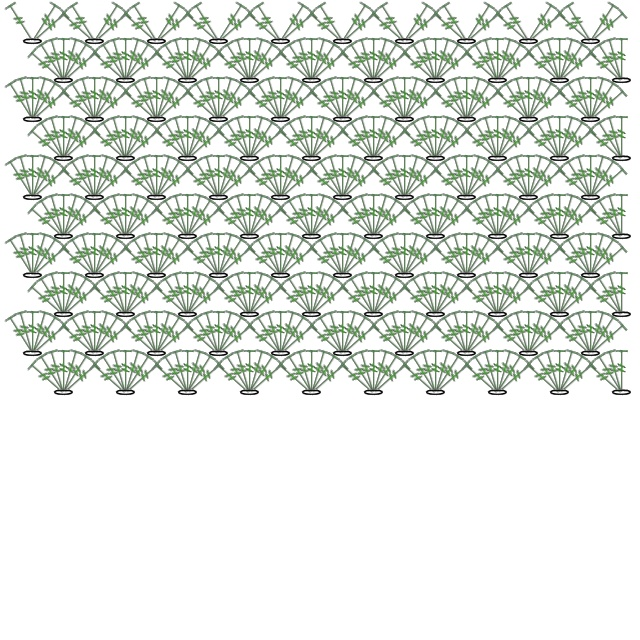chain: (52, 76, 76, 86), (114, 76, 138, 86), (176, 76, 200, 86), (238, 76, 262, 86), (300, 76, 324, 86), (362, 76, 386, 86), (424, 76, 448, 86), (486, 76, 510, 86), (548, 76, 572, 86), (610, 76, 634, 86), (52, 154, 76, 164), (114, 154, 138, 164), (176, 154, 200, 164), (238, 154, 262, 164), (300, 154, 324, 164), (362, 154, 386, 164), (424, 154, 448, 164), (486, 154, 510, 164), (548, 154, 572, 164), (610, 154, 634, 164), (52, 232, 76, 242), (114, 232, 138, 242), (176, 232, 200, 242), (238, 232, 262, 242), (300, 232, 324, 242), (362, 232, 386, 242), (424, 232, 448, 242), (486, 232, 510, 242), (548, 232, 572, 242), (610, 232, 634, 242), (52, 310, 76, 320), (114, 310, 138, 320), (176, 310, 200, 320), (238, 310, 262, 320), (300, 310, 324, 320), (362, 310, 386, 320), (424, 310, 448, 320), (486, 310, 510, 320), (548, 310, 572, 320), (610, 310, 634, 320), (52, 388, 76, 398), (114, 388, 138, 398), (176, 388, 200, 398), (238, 388, 262, 398), (300, 388, 324, 398), (362, 388, 386, 398), (424, 388, 448, 398), (486, 388, 510, 398), (548, 388, 572, 398), (610, 388, 634, 398), (22, 38, 44, 46), (84, 38, 106, 46), (146, 38, 168, 46), (208, 38, 230, 46), (270, 38, 292, 46), (332, 38, 354, 46), (394, 38, 416, 46), (456, 38, 478, 46), (518, 38, 540, 46), (580, 38, 602, 46), (22, 116, 44, 124), (84, 116, 106, 124), (146, 116, 168, 124), (208, 116, 230, 124), (270, 116, 292, 124), (332, 116, 354, 124), (394, 116, 416, 124), (456, 116, 478, 124), (518, 116, 540, 124), (580, 116, 602, 124), (22, 194, 44, 202), (84, 194, 106, 202), (146, 194, 168, 202), (208, 194, 230, 202), (270, 194, 292, 202), (332, 194, 354, 202), (394, 194, 416, 202), (456, 194, 478, 202), (518, 194, 540, 202), (580, 194, 602, 202), (22, 272, 44, 280), (84, 272, 106, 280), (146, 272, 168, 280), (208, 272, 230, 280), (270, 272, 292, 280), (332, 272, 354, 280), (394, 272, 416, 280), (456, 272, 478, 280), (518, 272, 540, 280), (580, 272, 602, 280), (22, 350, 44, 358), (84, 350, 106, 358), (146, 350, 168, 358), (208, 350, 230, 358), (270, 350, 292, 358), (332, 350, 354, 358), (394, 350, 416, 358), (456, 350, 478, 358), (518, 350, 540, 358), (580, 350, 602, 358)
fan: (28, 7, 71, 48), (57, 7, 100, 48), (90, 7, 133, 48), (119, 7, 162, 48), (152, 7, 195, 48), (181, 7, 224, 48), (214, 7, 257, 48), (243, 7, 286, 48), (276, 7, 319, 48), (305, 7, 348, 48), (338, 7, 381, 48), (367, 7, 410, 48), (400, 7, 443, 48), (429, 7, 472, 48), (462, 7, 505, 48), (491, 7, 534, 48), (524, 7, 567, 48), (553, 7, 596, 48), (586, 7, 629, 48), (26, 46, 69, 87), (59, 46, 102, 87), (88, 46, 131, 87), (121, 46, 164, 87), (150, 46, 193, 87), (183, 46, 226, 87), (212, 46, 255, 87), (245, 46, 288, 87), (274, 46, 317, 87), (307, 46, 350, 87), (336, 46, 379, 87), (369, 46, 412, 87), (398, 46, 441, 87), (431, 46, 474, 87), (460, 46, 503, 87), (493, 46, 536, 87), (522, 46, 565, 87), (555, 46, 598, 87), (584, 46, 627, 87), (28, 85, 71, 126), (57, 85, 100, 126), (90, 85, 133, 126), (119, 85, 162, 126), (152, 85, 195, 126), (181, 85, 224, 126), (214, 85, 257, 126), (243, 85, 286, 126), (276, 85, 319, 126), (305, 85, 348, 126), (338, 85, 381, 126), (367, 85, 410, 126), (400, 85, 443, 126), (429, 85, 472, 126), (462, 85, 505, 126), (491, 85, 534, 126), (524, 85, 567, 126), (553, 85, 596, 126), (586, 85, 629, 126), (26, 124, 69, 165), (59, 124, 102, 165), (88, 124, 131, 165), (121, 124, 164, 165), (150, 124, 193, 165), (183, 124, 226, 165), (212, 124, 255, 165), (245, 124, 288, 165), (274, 124, 317, 165), (307, 124, 350, 165), (336, 124, 379, 165), (369, 124, 412, 165), (398, 124, 441, 165), (431, 124, 474, 165), (460, 124, 503, 165), (493, 124, 536, 165), (522, 124, 565, 165), (555, 124, 598, 165), (584, 124, 627, 165), (28, 163, 71, 204), (57, 163, 100, 204), (90, 163, 133, 204), (119, 163, 162, 204), (152, 163, 195, 204), (181, 163, 224, 204), (214, 163, 257, 204), (243, 163, 286, 204), (276, 163, 319, 204), (305, 163, 348, 204), (338, 163, 381, 204), (367, 163, 410, 204), (400, 163, 443, 204), (429, 163, 472, 204), (462, 163, 505, 204), (491, 163, 534, 204), (524, 163, 567, 204), (553, 163, 596, 204), (586, 163, 629, 204), (26, 202, 69, 243), (59, 202, 102, 243), (88, 202, 131, 243), (121, 202, 164, 243), (150, 202, 193, 243), (183, 202, 226, 243), (212, 202, 255, 243), (245, 202, 288, 243), (274, 202, 317, 243), (307, 202, 350, 243), (336, 202, 379, 243), (369, 202, 412, 243), (398, 202, 441, 243), (431, 202, 474, 243), (460, 202, 503, 243), (493, 202, 536, 243), (522, 202, 565, 243), (555, 202, 598, 243), (584, 202, 627, 243), (28, 241, 71, 282), (57, 241, 100, 282), (90, 241, 133, 282), (119, 241, 162, 282), (152, 241, 195, 282), (181, 241, 224, 282), (214, 241, 257, 282), (243, 241, 286, 282), (276, 241, 319, 282), (305, 241, 348, 282), (338, 241, 381, 282), (367, 241, 410, 282), (400, 241, 443, 282), (429, 241, 472, 282), (462, 241, 505, 282), (491, 241, 534, 282), (524, 241, 567, 282), (553, 241, 596, 282), (586, 241, 629, 282), (26, 280, 69, 321), (59, 280, 102, 321), (88, 280, 131, 321), (121, 280, 164, 321), (150, 280, 193, 321), (183, 280, 226, 321), (212, 280, 255, 321), (245, 280, 288, 321), (274, 280, 317, 321), (307, 280, 350, 321), (336, 280, 379, 321), (369, 280, 412, 321), (398, 280, 441, 321), (431, 280, 474, 321), (460, 280, 503, 321), (493, 280, 536, 321), (522, 280, 565, 321), (555, 280, 598, 321), (584, 280, 627, 321), (28, 319, 71, 360), (57, 319, 100, 360), (90, 319, 133, 360), (119, 319, 162, 360), (152, 319, 195, 360), (181, 319, 224, 360), (214, 319, 257, 360), (243, 319, 286, 360), (276, 319, 319, 360), (305, 319, 348, 360), (338, 319, 381, 360), (367, 319, 410, 360), (400, 319, 443, 360), (429, 319, 472, 360), (462, 319, 505, 360), (491, 319, 534, 360), (524, 319, 567, 360), (553, 319, 596, 360), (586, 319, 629, 360), (26, 358, 69, 399), (59, 358, 102, 399), (88, 358, 131, 399), (121, 358, 164, 399), (150, 358, 193, 399), (183, 358, 226, 399), (212, 358, 255, 399), (245, 358, 288, 399), (274, 358, 317, 399), (307, 358, 350, 399), (336, 358, 379, 399), (369, 358, 412, 399), (398, 358, 441, 399), (431, 358, 474, 399), (460, 358, 503, 399), (493, 358, 536, 399), (522, 358, 565, 399), (555, 358, 598, 399), (584, 358, 627, 399), (3, 1, 39, 46), (27, 1, 63, 46), (65, 1, 101, 46), (89, 1, 125, 46), (127, 1, 163, 46), (151, 1, 187, 46), (189, 1, 225, 46), (213, 1, 249, 46), (251, 1, 287, 46), (275, 1, 311, 46), (313, 1, 349, 46), (337, 1, 373, 46), (375, 1, 411, 46), (399, 1, 435, 46), (437, 1, 473, 46), (461, 1, 497, 46), (499, 1, 535, 46), (523, 1, 559, 46), (561, 1, 597, 46), (585, 1, 621, 46), (34, 40, 70, 85), (58, 40, 94, 85), (96, 40, 132, 85), (120, 40, 156, 85), (158, 40, 194, 85), (182, 40, 218, 85), (220, 40, 256, 85), (244, 40, 280, 85), (282, 40, 318, 85), (306, 40, 342, 85), (344, 40, 380, 85), (368, 40, 404, 85), (406, 40, 442, 85), (430, 40, 466, 85), (468, 40, 504, 85), (492, 40, 528, 85), (530, 40, 566, 85), (554, 40, 590, 85), (592, 40, 628, 85), (3, 79, 39, 124), (27, 79, 63, 124), (65, 79, 101, 124), (89, 79, 125, 124), (127, 79, 163, 124), (151, 79, 187, 124), (189, 79, 225, 124), (213, 79, 249, 124), (251, 79, 287, 124), (275, 79, 311, 124), (313, 79, 349, 124), (337, 79, 373, 124), (375, 79, 411, 124), (399, 79, 435, 124), (437, 79, 473, 124), (461, 79, 497, 124), (499, 79, 535, 124), (523, 79, 559, 124), (561, 79, 597, 124), (585, 79, 621, 124), (34, 118, 70, 163), (58, 118, 94, 163), (96, 118, 132, 163), (120, 118, 156, 163), (158, 118, 194, 163), (182, 118, 218, 163), (220, 118, 256, 163), (244, 118, 280, 163), (282, 118, 318, 163), (306, 118, 342, 163), (344, 118, 380, 163), (368, 118, 404, 163), (406, 118, 442, 163), (430, 118, 466, 163), (468, 118, 504, 163), (492, 118, 528, 163), (530, 118, 566, 163), (554, 118, 590, 163), (592, 118, 628, 163), (3, 157, 39, 202), (27, 157, 63, 202), (65, 157, 101, 202), (89, 157, 125, 202), (127, 157, 163, 202), (151, 157, 187, 202), (189, 157, 225, 202), (213, 157, 249, 202), (251, 157, 287, 202), (275, 157, 311, 202), (313, 157, 349, 202), (337, 157, 373, 202), (375, 157, 411, 202), (399, 157, 435, 202), (437, 157, 473, 202), (461, 157, 497, 202), (499, 157, 535, 202), (523, 157, 559, 202), (561, 157, 597, 202), (585, 157, 621, 202), (34, 196, 70, 241), (58, 196, 94, 241), (96, 196, 132, 241), (120, 196, 156, 241), (158, 196, 194, 241), (182, 196, 218, 241), (220, 196, 256, 241), (244, 196, 280, 241), (282, 196, 318, 241), (306, 196, 342, 241), (344, 196, 380, 241), (368, 196, 404, 241), (406, 196, 442, 241), (430, 196, 466, 241), (468, 196, 504, 241), (492, 196, 528, 241), (530, 196, 566, 241), (554, 196, 590, 241), (592, 196, 628, 241), (3, 235, 39, 280), (27, 235, 63, 280), (65, 235, 101, 280), (89, 235, 125, 280), (127, 235, 163, 280), (151, 235, 187, 280), (189, 235, 225, 280), (213, 235, 249, 280), (251, 235, 287, 280), (275, 235, 311, 280), (313, 235, 349, 280), (337, 235, 373, 280), (375, 235, 411, 280), (399, 235, 435, 280), (437, 235, 473, 280), (461, 235, 497, 280), (499, 235, 535, 280), (523, 235, 559, 280), (561, 235, 597, 280), (585, 235, 621, 280), (34, 274, 70, 319), (58, 274, 94, 319), (96, 274, 132, 319), (120, 274, 156, 319), (158, 274, 194, 319), (182, 274, 218, 319), (220, 274, 256, 319), (244, 274, 280, 319), (282, 274, 318, 319), (306, 274, 342, 319), (344, 274, 380, 319), (368, 274, 404, 319), (406, 274, 442, 319), (430, 274, 466, 319), (468, 274, 504, 319), (492, 274, 528, 319), (530, 274, 566, 319), (554, 274, 590, 319), (592, 274, 628, 319), (3, 313, 39, 358), (27, 313, 63, 358), (65, 313, 101, 358), (89, 313, 125, 358), (127, 313, 163, 358), (151, 313, 187, 358), (189, 313, 225, 358), (213, 313, 249, 358), (251, 313, 287, 358), (275, 313, 311, 358), (313, 313, 349, 358), (337, 313, 373, 358), (375, 313, 411, 358), (399, 313, 435, 358), (437, 313, 473, 358), (461, 313, 497, 358), (499, 313, 535, 358), (523, 313, 559, 358), (561, 313, 597, 358), (585, 313, 621, 358), (34, 352, 70, 397), (58, 352, 94, 397), (96, 352, 132, 397), (120, 352, 156, 397), (158, 352, 194, 397), (182, 352, 218, 397), (220, 352, 256, 397), (244, 352, 280, 397), (282, 352, 318, 397), (306, 352, 342, 397), (344, 352, 380, 397), (368, 352, 404, 397), (406, 352, 442, 397), (430, 352, 466, 397), (468, 352, 504, 397), (492, 352, 528, 397), (530, 352, 566, 397), (554, 352, 590, 397), (592, 352, 628, 397), (45, 37, 71, 83), (57, 37, 83, 83), (107, 37, 133, 83), (119, 37, 145, 83), (169, 37, 195, 83), (181, 37, 207, 83), (231, 37, 257, 83), (243, 37, 269, 83), (293, 37, 319, 83), (305, 37, 331, 83), (355, 37, 381, 83), (367, 37, 393, 83), (417, 37, 443, 83), (429, 37, 455, 83), (479, 37, 505, 83), (491, 37, 517, 83), (541, 37, 567, 83), (553, 37, 579, 83), (603, 37, 629, 83), (14, 76, 40, 122), (26, 76, 52, 122), (76, 76, 102, 122), (88, 76, 114, 122), (138, 76, 164, 122), (150, 76, 176, 122), (200, 76, 226, 122), (212, 76, 238, 122), (262, 76, 288, 122), (274, 76, 300, 122), (324, 76, 350, 122), (336, 76, 362, 122), (386, 76, 412, 122), (398, 76, 424, 122), (448, 76, 474, 122), (460, 76, 486, 122), (510, 76, 536, 122), (522, 76, 548, 122), (572, 76, 598, 122), (584, 76, 610, 122), (45, 115, 71, 161), (57, 115, 83, 161), (107, 115, 133, 161), (119, 115, 145, 161), (169, 115, 195, 161), (181, 115, 207, 161), (231, 115, 257, 161), (243, 115, 269, 161), (293, 115, 319, 161), (305, 115, 331, 161), (355, 115, 381, 161), (367, 115, 393, 161), (417, 115, 443, 161), (429, 115, 455, 161), (479, 115, 505, 161), (491, 115, 517, 161), (541, 115, 567, 161), (553, 115, 579, 161), (603, 115, 629, 161), (14, 154, 40, 200), (26, 154, 52, 200), (76, 154, 102, 200), (88, 154, 114, 200), (138, 154, 164, 200), (150, 154, 176, 200), (200, 154, 226, 200), (212, 154, 238, 200), (262, 154, 288, 200), (274, 154, 300, 200), (324, 154, 350, 200), (336, 154, 362, 200), (386, 154, 412, 200), (398, 154, 424, 200), (448, 154, 474, 200), (460, 154, 486, 200), (510, 154, 536, 200), (522, 154, 548, 200), (572, 154, 598, 200), (584, 154, 610, 200), (45, 193, 71, 239), (57, 193, 83, 239), (107, 193, 133, 239), (119, 193, 145, 239), (169, 193, 195, 239), (181, 193, 207, 239), (231, 193, 257, 239), (243, 193, 269, 239), (293, 193, 319, 239), (305, 193, 331, 239), (355, 193, 381, 239), (367, 193, 393, 239), (417, 193, 443, 239), (429, 193, 455, 239), (479, 193, 505, 239), (491, 193, 517, 239), (541, 193, 567, 239), (553, 193, 579, 239), (603, 193, 629, 239), (14, 232, 40, 278), (26, 232, 52, 278), (76, 232, 102, 278), (88, 232, 114, 278), (138, 232, 164, 278), (150, 232, 176, 278), (200, 232, 226, 278), (212, 232, 238, 278), (262, 232, 288, 278), (274, 232, 300, 278), (324, 232, 350, 278), (336, 232, 362, 278), (386, 232, 412, 278), (398, 232, 424, 278), (448, 232, 474, 278), (460, 232, 486, 278), (510, 232, 536, 278), (522, 232, 548, 278), (572, 232, 598, 278), (584, 232, 610, 278), (45, 271, 71, 317), (57, 271, 83, 317), (107, 271, 133, 317), (119, 271, 145, 317), (169, 271, 195, 317), (181, 271, 207, 317), (231, 271, 257, 317), (243, 271, 269, 317), (293, 271, 319, 317), (305, 271, 331, 317), (355, 271, 381, 317), (367, 271, 393, 317), (417, 271, 443, 317), (429, 271, 455, 317), (479, 271, 505, 317), (491, 271, 517, 317), (541, 271, 567, 317), (553, 271, 579, 317), (603, 271, 629, 317), (14, 310, 40, 356), (26, 310, 52, 356), (76, 310, 102, 356), (88, 310, 114, 356), (138, 310, 164, 356), (150, 310, 176, 356), (200, 310, 226, 356), (212, 310, 238, 356), (262, 310, 288, 356), (274, 310, 300, 356), (324, 310, 350, 356), (336, 310, 362, 356), (386, 310, 412, 356), (398, 310, 424, 356), (448, 310, 474, 356), (460, 310, 486, 356), (510, 310, 536, 356), (522, 310, 548, 356), (572, 310, 598, 356), (584, 310, 610, 356), (45, 349, 71, 395), (57, 349, 83, 395), (107, 349, 133, 395), (119, 349, 145, 395), (169, 349, 195, 395), (181, 349, 207, 395), (231, 349, 257, 395), (243, 349, 269, 395), (293, 349, 319, 395), (305, 349, 331, 395), (355, 349, 381, 395), (367, 349, 393, 395), (417, 349, 443, 395), (429, 349, 455, 395), (479, 349, 505, 395), (491, 349, 517, 395), (541, 349, 567, 395), (553, 349, 579, 395), (603, 349, 629, 395), (56, 37, 72, 81), (118, 37, 134, 81), (180, 37, 196, 81), (242, 37, 258, 81), (304, 37, 320, 81), (366, 37, 382, 81), (428, 37, 444, 81), (490, 37, 506, 81), (552, 37, 568, 81), (614, 37, 630, 81), (56, 115, 72, 159), (118, 115, 134, 159), (180, 115, 196, 159), (242, 115, 258, 159), (304, 115, 320, 159), (366, 115, 382, 159), (428, 115, 444, 159), (490, 115, 506, 159), (552, 115, 568, 159), (614, 115, 630, 159), (56, 193, 72, 237), (118, 193, 134, 237), (180, 193, 196, 237), (242, 193, 258, 237), (304, 193, 320, 237), (366, 193, 382, 237), (428, 193, 444, 237), (490, 193, 506, 237), (552, 193, 568, 237), (614, 193, 630, 237), (56, 271, 72, 315), (118, 271, 134, 315), (180, 271, 196, 315), (242, 271, 258, 315), (304, 271, 320, 315), (366, 271, 382, 315), (428, 271, 444, 315), (490, 271, 506, 315), (552, 271, 568, 315), (614, 271, 630, 315), (56, 349, 72, 393), (118, 349, 134, 393), (180, 349, 196, 393), (242, 349, 258, 393), (304, 349, 320, 393), (366, 349, 382, 393), (428, 349, 444, 393), (490, 349, 506, 393), (552, 349, 568, 393), (614, 349, 630, 393), (26, 76, 40, 120), (88, 76, 102, 120), (150, 76, 164, 120), (212, 76, 226, 120), (274, 76, 288, 120), (336, 76, 350, 120), (398, 76, 412, 120), (460, 76, 474, 120), (522, 76, 536, 120), (584, 76, 598, 120), (26, 154, 40, 198), (88, 154, 102, 198), (150, 154, 164, 198), (212, 154, 226, 198), (274, 154, 288, 198), (336, 154, 350, 198), (398, 154, 412, 198), (460, 154, 474, 198), (522, 154, 536, 198), (584, 154, 598, 198), (26, 232, 40, 276), (88, 232, 102, 276), (150, 232, 164, 276), (212, 232, 226, 276), (274, 232, 288, 276), (336, 232, 350, 276), (398, 232, 412, 276), (460, 232, 474, 276), (522, 232, 536, 276), (584, 232, 598, 276), (26, 310, 40, 354), (88, 310, 102, 354), (150, 310, 164, 354), (212, 310, 226, 354), (274, 310, 288, 354), (336, 310, 350, 354), (398, 310, 412, 354), (460, 310, 474, 354), (522, 310, 536, 354), (584, 310, 598, 354)
